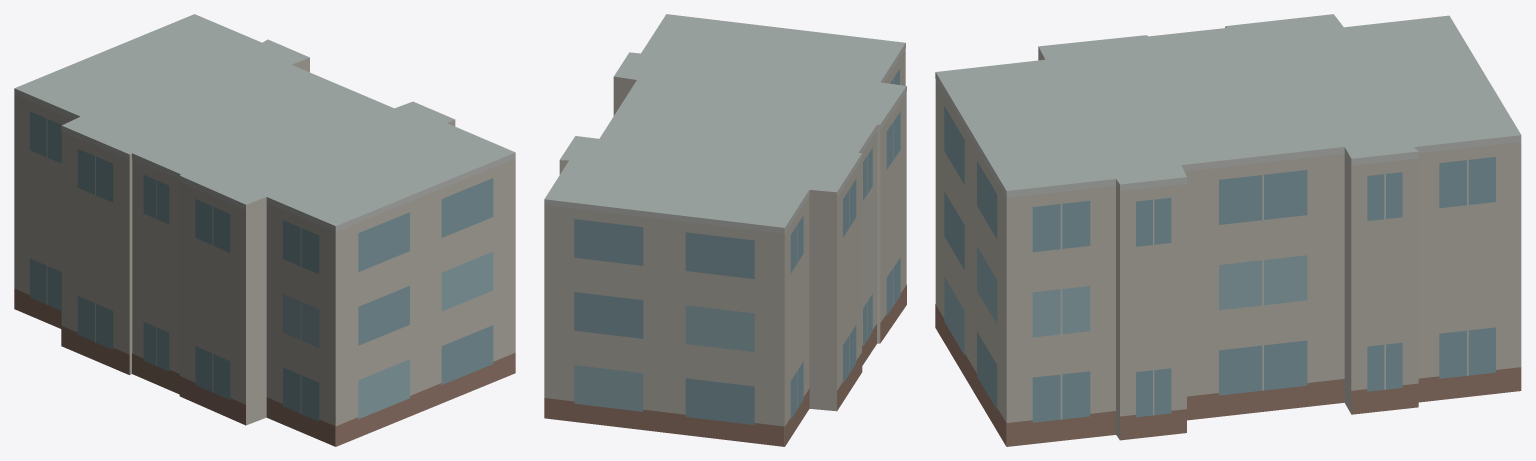
File: survey-upis-32525807.glb
3 views of the same model, side by side, from view 1: azimuth 30°, elevation 25°; view 2: azimuth 150°, elevation 25°; view 3: azimuth 270°, elevation 25° (orthographic). The views are drawn at different scales.
Visible parts, largest first — view 1: survey-upis-32525807.tmp; view 2: survey-upis-32525807.tmp; view 3: survey-upis-32525807.tmp.
Boxes of the visible parts, x1,y1,x2,y2 form: survey-upis-32525807.tmp: (14,14,515,446); survey-upis-32525807.tmp: (544,14,906,446); survey-upis-32525807.tmp: (935,14,1521,446).
Bounding box in the file's own units: 13.59 × 9.15 × 19.
